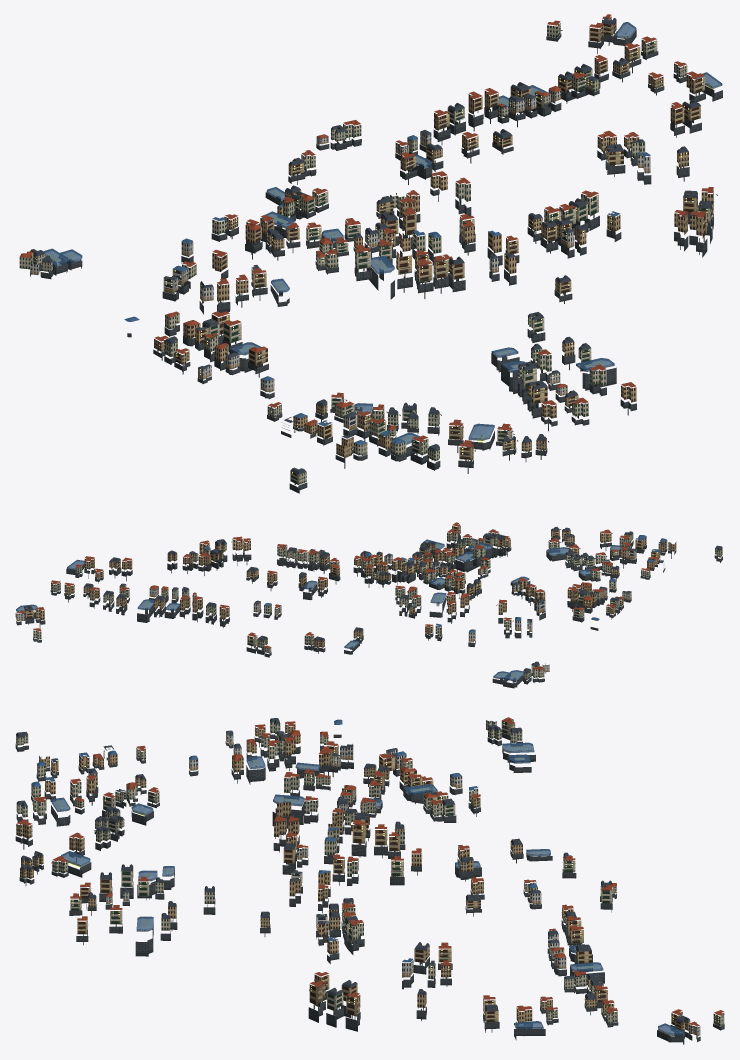
File: osm_buildings_T_E00_N00_Q4.glb
The picture shows the model from 3 angles, top to bottom: view 1: azimuth 30°, elevation 25°; view 2: azimuth 150°, elevation 25°; view 3: azimuth 270°, elevation 25°; orthographic projection. The views are drawn at different scales.
Visible parts, largest first — view 1: OSM_PBR_T_E00_N00_Q4_foundation, OSM_PBR_T_E00_N00_Q4_wall_french_ochre, OSM_PBR_T_E00_N00_Q4_wall_cream_stucco, OSM_PBR_T_E00_N00_Q4_roof_terracotta, OSM_PBR_T_E00_N00_Q4_greenhouse_blend, OSM_PBR_T_E00_N00_Q4_roof_mansard_slate, OSM_PBR_T_E00_N00_Q4_wall_warm_white, OSM_PBR_T_E00_N00_Q4_roof_mansard_deck, OSM_PBR_T_E00_N00_Q4_wall_pastel_sand, OSM_PBR_T_E00_N00_Q4_roof_mint_metal, OSM_PBR_T_E00_N00_Q4_trim_cornice, OSM_PBR_T_E00_N00_Q4_balcony_railing (+2 smaller); view 2: OSM_PBR_T_E00_N00_Q4_foundation, OSM_PBR_T_E00_N00_Q4_wall_french_ochre, OSM_PBR_T_E00_N00_Q4_wall_cream_stucco, OSM_PBR_T_E00_N00_Q4_roof_terracotta, OSM_PBR_T_E00_N00_Q4_greenhouse_blend, OSM_PBR_T_E00_N00_Q4_roof_mansard_slate, OSM_PBR_T_E00_N00_Q4_roof_mansard_deck, OSM_PBR_T_E00_N00_Q4_wall_pastel_sand, OSM_PBR_T_E00_N00_Q4_wall_warm_white, OSM_PBR_T_E00_N00_Q4_roof_mint_metal, OSM_PBR_T_E00_N00_Q4_trim_cornice, OSM_PBR_T_E00_N00_Q4_roof_alpine_blue; view 3: OSM_PBR_T_E00_N00_Q4_foundation, OSM_PBR_T_E00_N00_Q4_wall_french_ochre, OSM_PBR_T_E00_N00_Q4_wall_cream_stucco, OSM_PBR_T_E00_N00_Q4_roof_terracotta, OSM_PBR_T_E00_N00_Q4_greenhouse_blend, OSM_PBR_T_E00_N00_Q4_roof_mansard_slate, OSM_PBR_T_E00_N00_Q4_roof_mansard_deck, OSM_PBR_T_E00_N00_Q4_wall_warm_white, OSM_PBR_T_E00_N00_Q4_trim_cornice, OSM_PBR_T_E00_N00_Q4_roof_mint_metal, OSM_PBR_T_E00_N00_Q4_wall_pastel_sand, OSM_PBR_T_E00_N00_Q4_roof_alpine_blue (+2 smaller).
Part boxes in pixels (left/top/right/bottom): OSM_PBR_T_E00_N00_Q4_foundation: left=30, top=30, right=722, bottom=493; OSM_PBR_T_E00_N00_Q4_wall_french_ochre: left=154, top=19, right=713, bottom=460; OSM_PBR_T_E00_N00_Q4_wall_cream_stucco: left=19, top=23, right=712, bottom=484; OSM_PBR_T_E00_N00_Q4_roof_terracotta: left=20, top=14, right=713, bottom=446; OSM_PBR_T_E00_N00_Q4_greenhouse_blend: left=43, top=22, right=722, bottom=444; OSM_PBR_T_E00_N00_Q4_roof_mansard_slate: left=30, top=17, right=712, bottom=474; OSM_PBR_T_E00_N00_Q4_wall_warm_white: left=30, top=99, right=650, bottom=395; OSM_PBR_T_E00_N00_Q4_roof_mansard_deck: left=31, top=17, right=721, bottom=471; OSM_PBR_T_E00_N00_Q4_wall_pastel_sand: left=163, top=16, right=611, bottom=430; OSM_PBR_T_E00_N00_Q4_roof_mint_metal: left=32, top=28, right=712, bottom=482; OSM_PBR_T_E00_N00_Q4_trim_cornice: left=32, top=20, right=709, bottom=476; OSM_PBR_T_E00_N00_Q4_balcony_railing: left=31, top=26, right=713, bottom=478; OSM_PBR_T_E00_N00_Q4_foundation: left=15, top=534, right=722, bottom=688; OSM_PBR_T_E00_N00_Q4_wall_french_ochre: left=24, top=524, right=676, bottom=647; OSM_PBR_T_E00_N00_Q4_wall_cream_stucco: left=33, top=533, right=722, bottom=679; OSM_PBR_T_E00_N00_Q4_roof_terracotta: left=16, top=522, right=659, bottom=669; OSM_PBR_T_E00_N00_Q4_greenhouse_blend: left=16, top=539, right=626, bottom=681; OSM_PBR_T_E00_N00_Q4_roof_mansard_slate: left=24, top=527, right=722, bottom=673; OSM_PBR_T_E00_N00_Q4_roof_mansard_deck: left=17, top=526, right=721, bottom=679; OSM_PBR_T_E00_N00_Q4_wall_pastel_sand: left=16, top=540, right=636, bottom=653; OSM_PBR_T_E00_N00_Q4_wall_warm_white: left=182, top=540, right=616, bottom=672; OSM_PBR_T_E00_N00_Q4_roof_mint_metal: left=24, top=533, right=720, bottom=677; OSM_PBR_T_E00_N00_Q4_trim_cornice: left=18, top=528, right=719, bottom=675; OSM_PBR_T_E00_N00_Q4_roof_alpine_blue: left=204, top=535, right=666, bottom=632; OSM_PBR_T_E00_N00_Q4_foundation: left=15, top=732, right=724, bottom=1044; OSM_PBR_T_E00_N00_Q4_wall_french_ochre: left=16, top=723, right=690, bottom=1031; OSM_PBR_T_E00_N00_Q4_wall_cream_stucco: left=16, top=719, right=724, bottom=1026; OSM_PBR_T_E00_N00_Q4_roof_terracotta: left=16, top=717, right=723, bottom=1026; OSM_PBR_T_E00_N00_Q4_greenhouse_blend: left=51, top=742, right=684, bottom=1035; OSM_PBR_T_E00_N00_Q4_roof_mansard_slate: left=16, top=718, right=689, bottom=1023; OSM_PBR_T_E00_N00_Q4_roof_mansard_deck: left=17, top=718, right=688, bottom=1033; OSM_PBR_T_E00_N00_Q4_wall_warm_white: left=106, top=720, right=558, bottom=977; OSM_PBR_T_E00_N00_Q4_trim_cornice: left=17, top=722, right=719, bottom=1027; OSM_PBR_T_E00_N00_Q4_roof_mint_metal: left=16, top=728, right=723, bottom=1030; OSM_PBR_T_E00_N00_Q4_wall_pastel_sand: left=88, top=732, right=700, bottom=1036; OSM_PBR_T_E00_N00_Q4_roof_alpine_blue: left=31, top=719, right=537, bottom=962.
Size of the model in its own units: 1002 by 166 by 973.
Materials: 18 (16 with a texture image).
